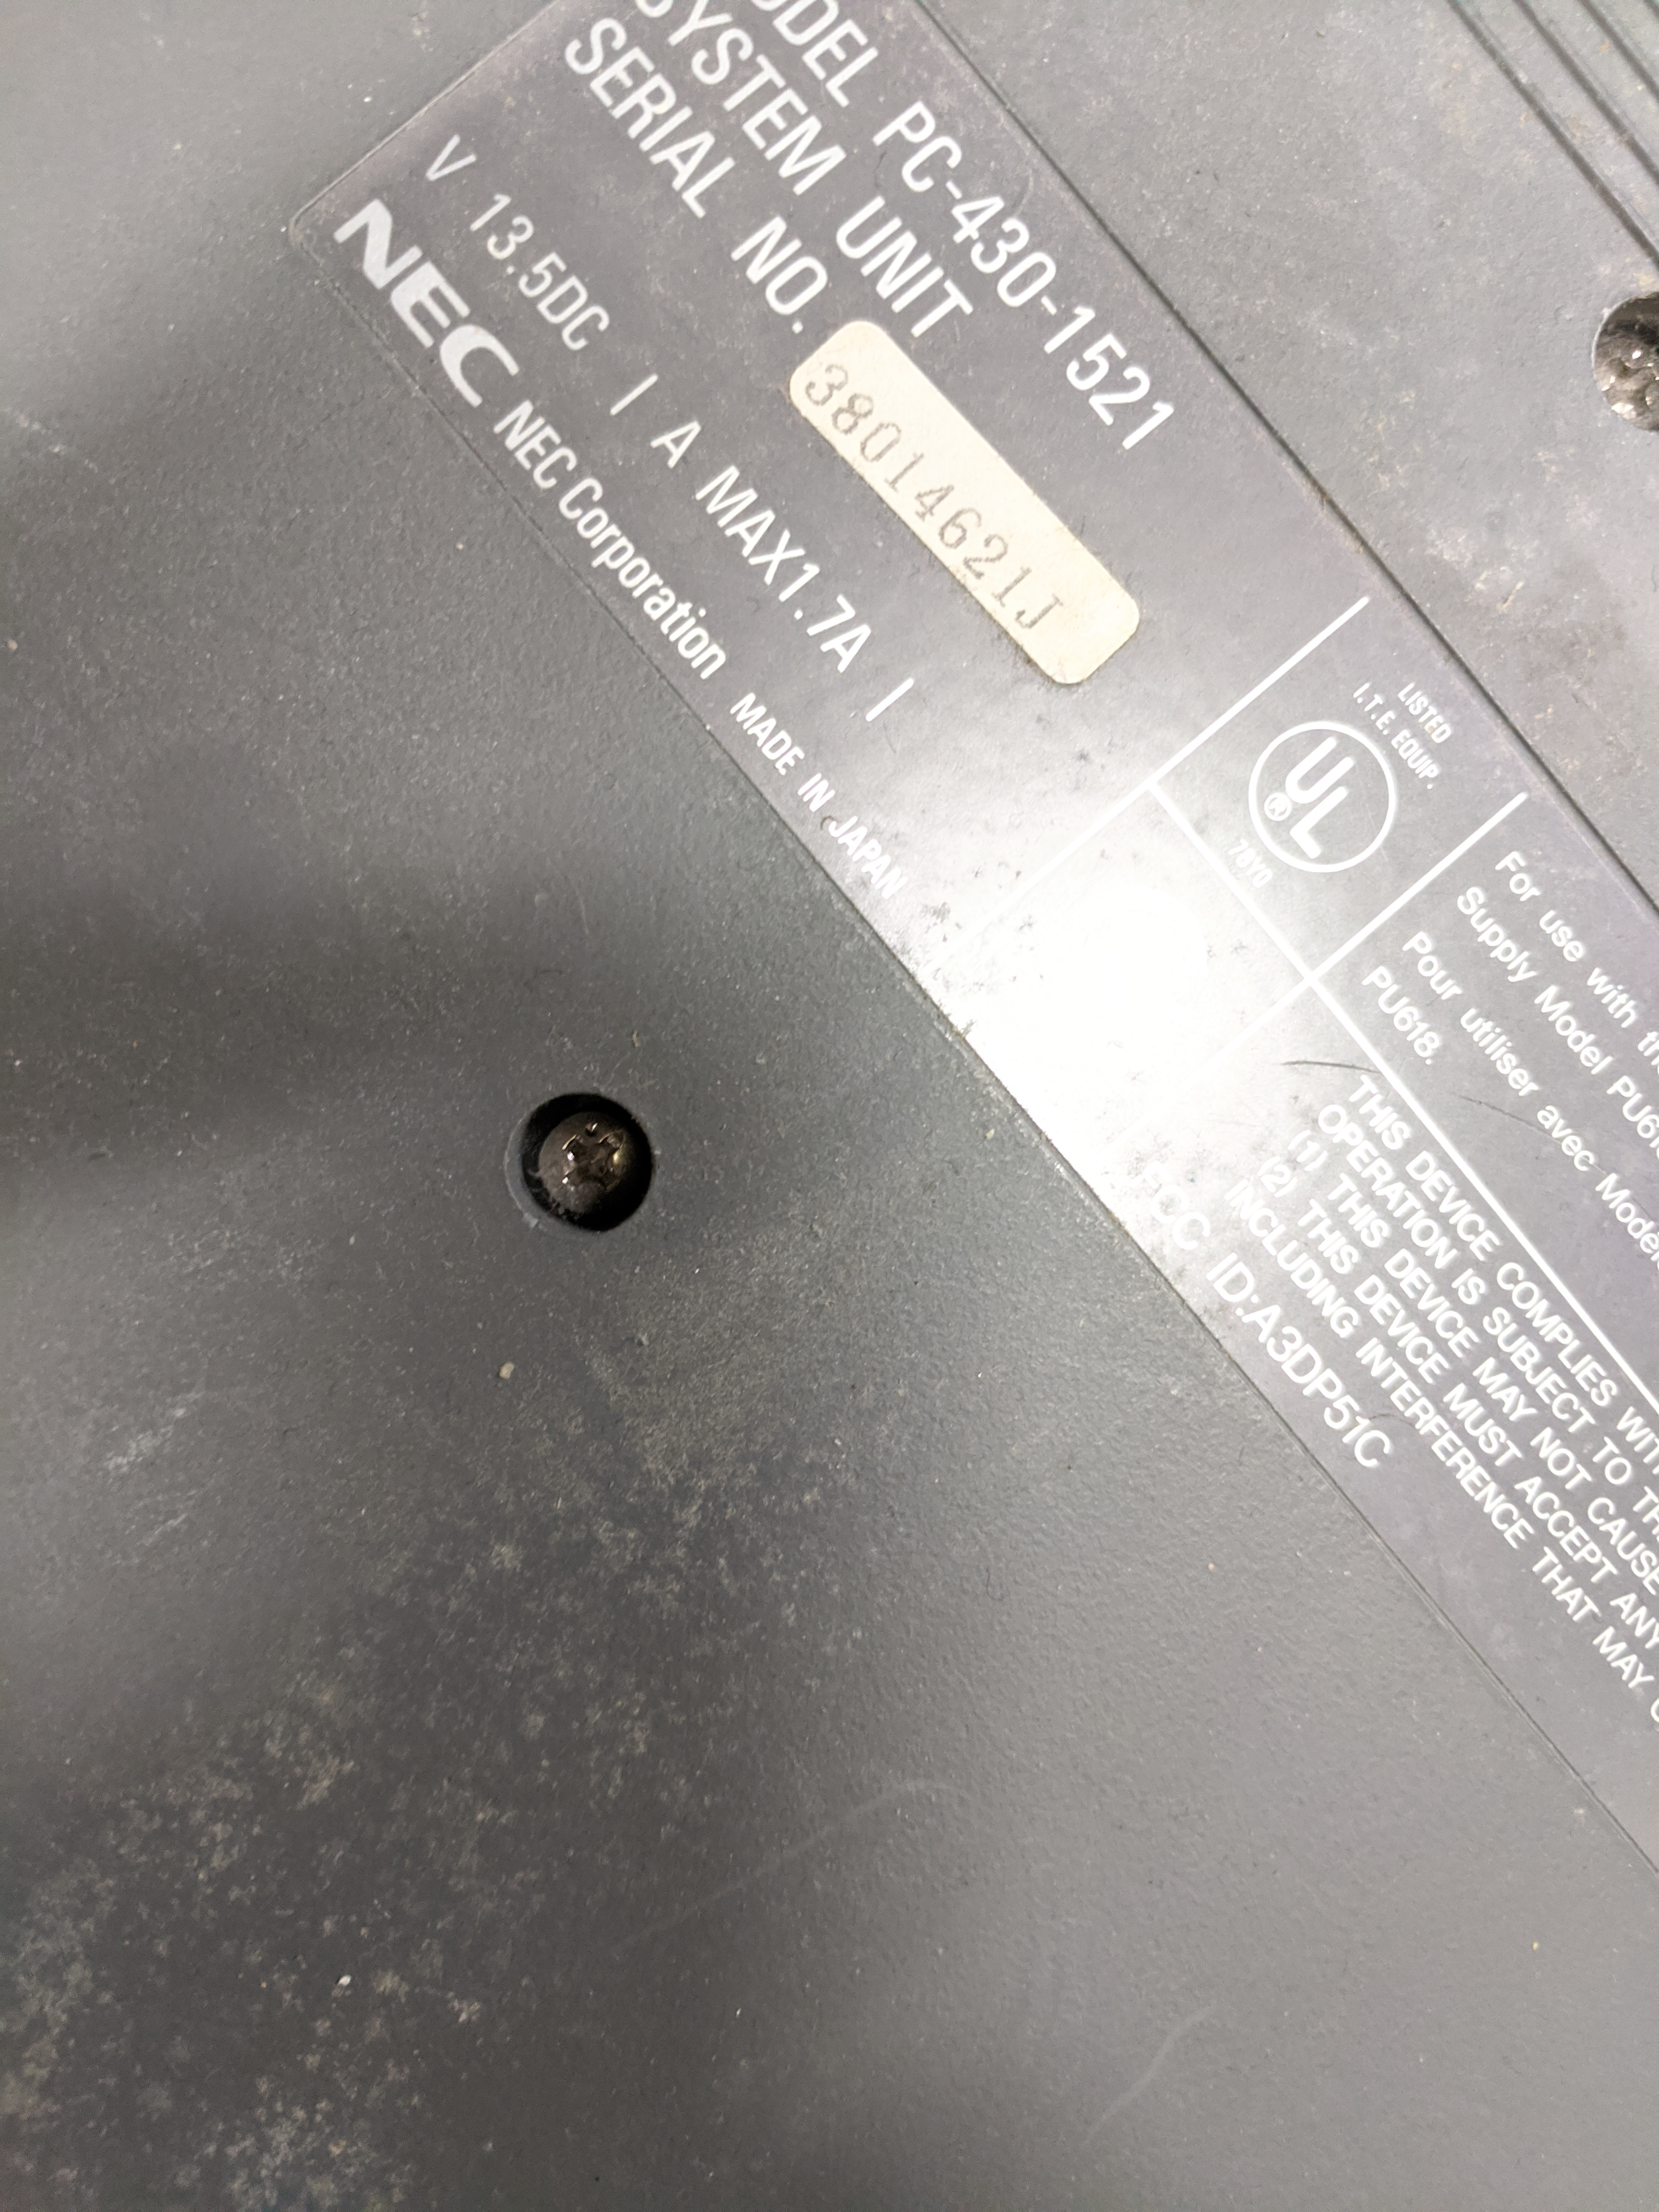cross_recessed_screw: (491, 1087, 674, 1238), (1589, 277, 1657, 420)
